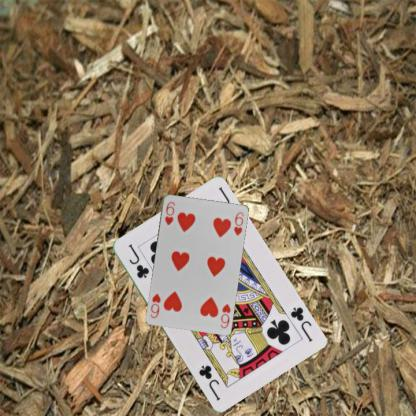6h: (218, 301, 232, 329), (162, 199, 176, 226)
Jc: (287, 304, 314, 343), (126, 241, 150, 280)
